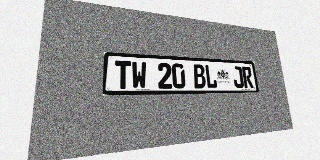0: (171, 63, 186, 89)
2: (157, 62, 172, 89)
B: (193, 64, 206, 88)
J: (232, 66, 244, 88)
L: (204, 65, 218, 88)
R: (242, 66, 254, 88)
T: (115, 60, 131, 89)
W: (131, 61, 147, 89)
